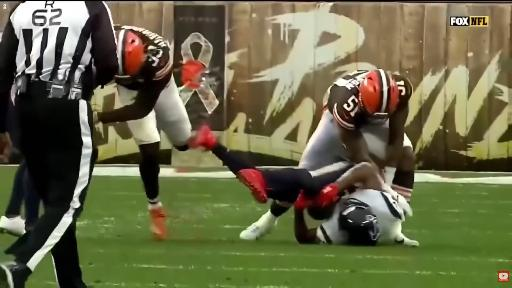Helmet: (359, 70, 399, 117), (339, 199, 379, 245), (116, 30, 146, 76)
Jersey: (317, 190, 404, 244), (115, 26, 172, 90), (327, 71, 387, 129)
Player: (190, 126, 415, 245), (98, 26, 191, 239), (299, 70, 415, 199), (189, 125, 351, 207), (295, 163, 418, 246)
